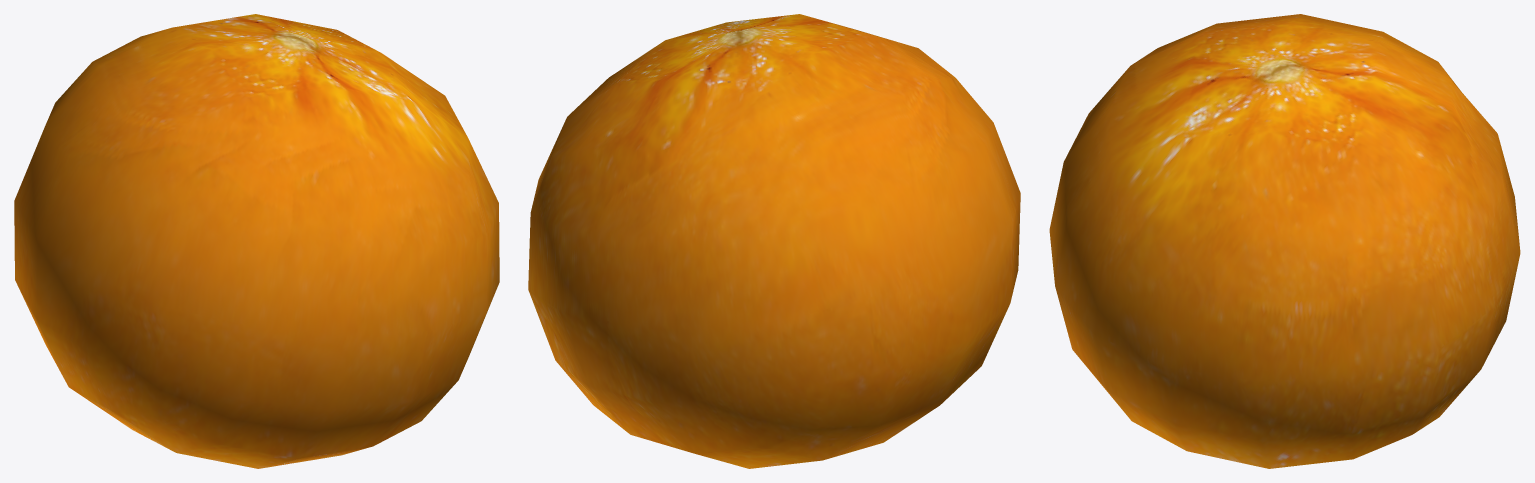
Rendered from mandarin.fbx.
3 views of the same model, side by side, from view 1: azimuth 30°, elevation 25°; view 2: azimuth 150°, elevation 25°; view 3: azimuth 270°, elevation 25° (orthographic). The views are drawn at different scales.
Parts seen in each view (by area): view 1: 2023.004; view 2: 2023.004; view 3: 2023.004.
Part boxes in pixels (x1,y1,x2,y2): 2023.004: [14, 14, 499, 468]; 2023.004: [528, 14, 1020, 468]; 2023.004: [1049, 14, 1520, 468].
Size of the model in its own units: 13.64 by 12.66 by 13.87.
